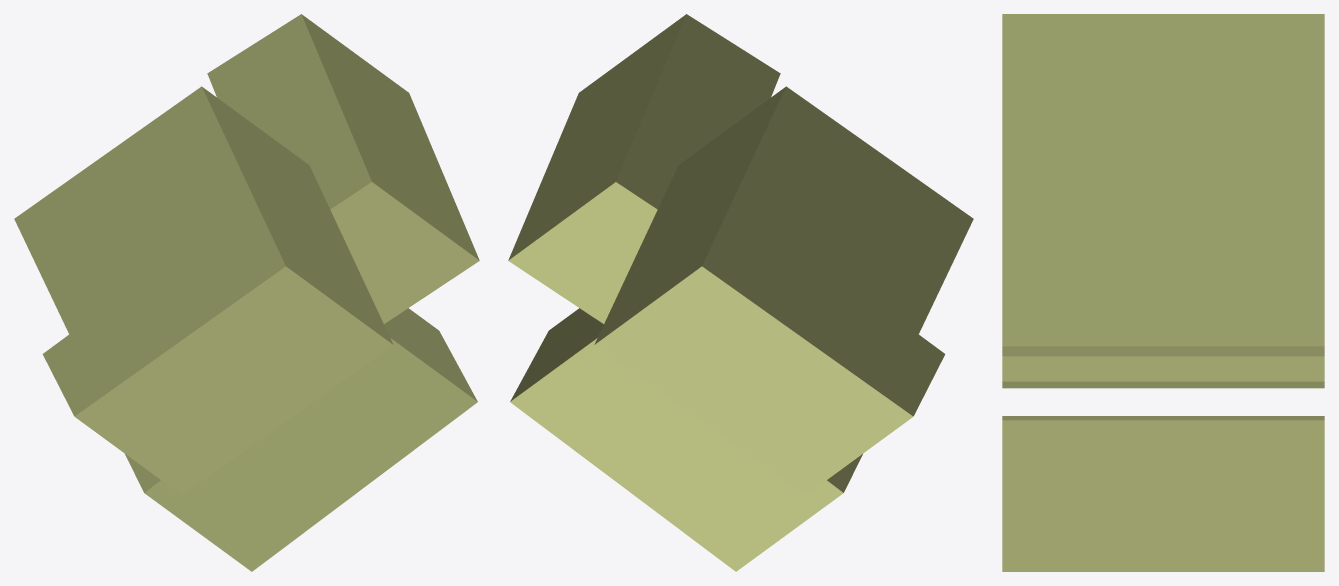
3 renders of one model, left to right at view 1: azimuth 30°, elevation 25°; view 2: azimuth 150°, elevation 25°; view 3: azimuth 270°, elevation 25°, orthographic. The views are drawn at different scales.
Parts seen in each view (by area): view 1: 0_1_2_0_3_3_0_2_3_1; view 2: 0_1_2_0_3_3_0_2_3_1; view 3: 0_1_2_0_3_3_0_2_3_1.
Boxes of the visible parts, box(x1,y1,x2,y2) form: 0_1_2_0_3_3_0_2_3_1: box(14, 14, 479, 571); 0_1_2_0_3_3_0_2_3_1: box(508, 14, 973, 571); 0_1_2_0_3_3_0_2_3_1: box(1002, 14, 1324, 571).
Size of the model in its own units: 17.25 by 20.3 by 9.
